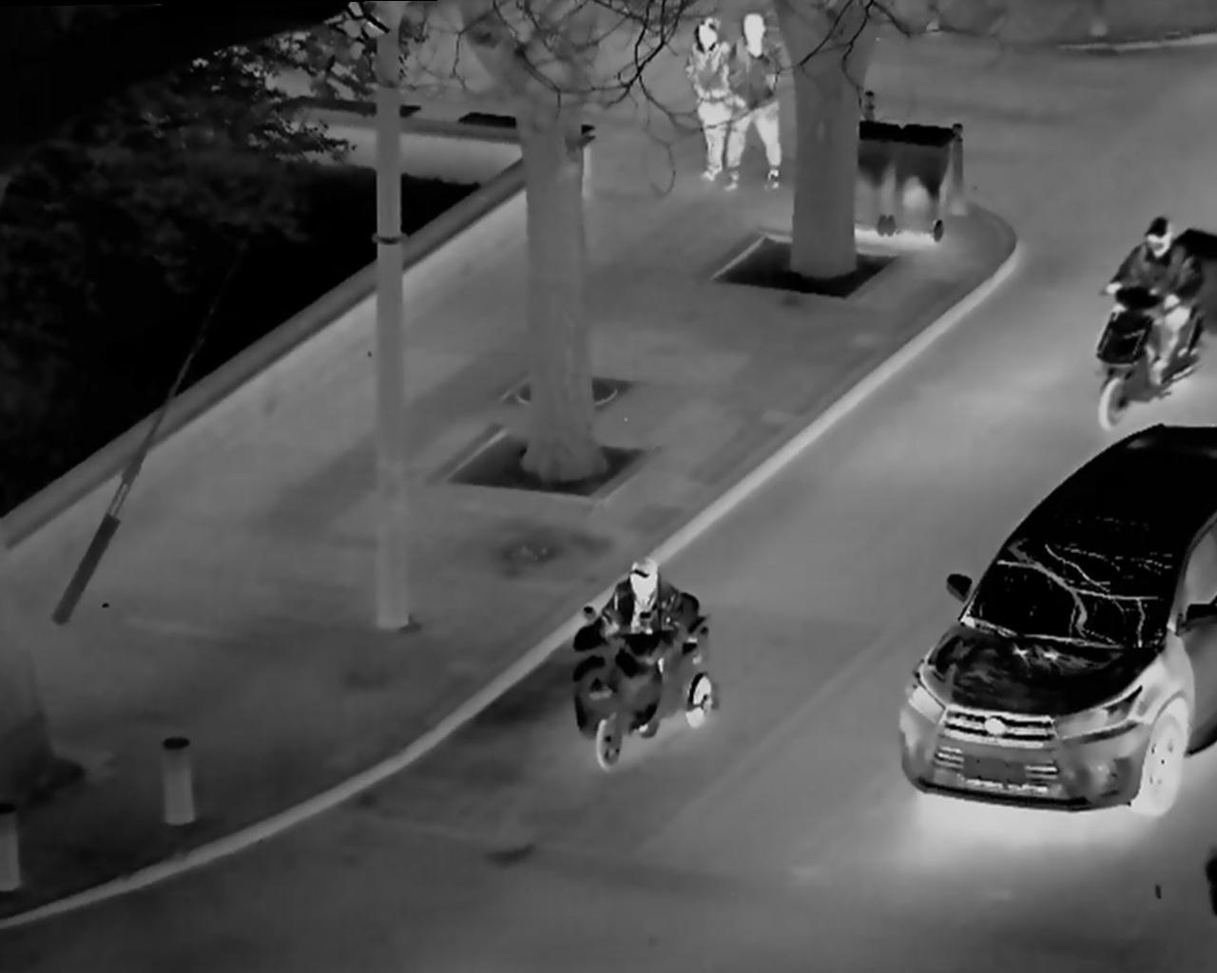person: (582, 539, 700, 740), (1106, 194, 1197, 411), (682, 5, 739, 180)
